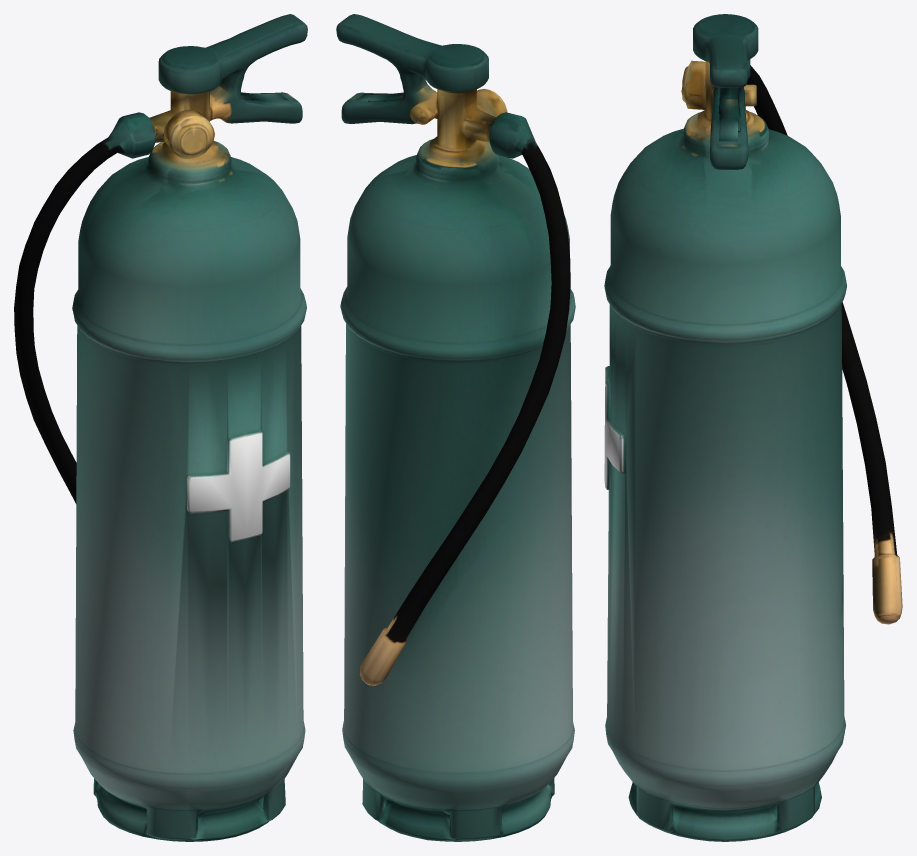
Rendered from Medical__oxygen_tank_medical_realistic_style_01a3b4e2_v4.cluster.glb.
The picture shows the model from 3 angles, left to right: view 1: azimuth 30°, elevation 25°; view 2: azimuth 150°, elevation 25°; view 3: azimuth 270°, elevation 25°; orthographic projection. The views are drawn at different scales.
Visible parts, largest first — view 1: mesh_input; view 2: mesh_input; view 3: mesh_input.
Part boxes in pixels (x1,y1,x2,y2): mesh_input: [14, 14, 307, 841]; mesh_input: [336, 14, 575, 841]; mesh_input: [604, 14, 902, 841].
Bounding box in the file's own units: 0.6641 × 1.9 × 0.6504.
Materials: 1 (1 with a texture image).
